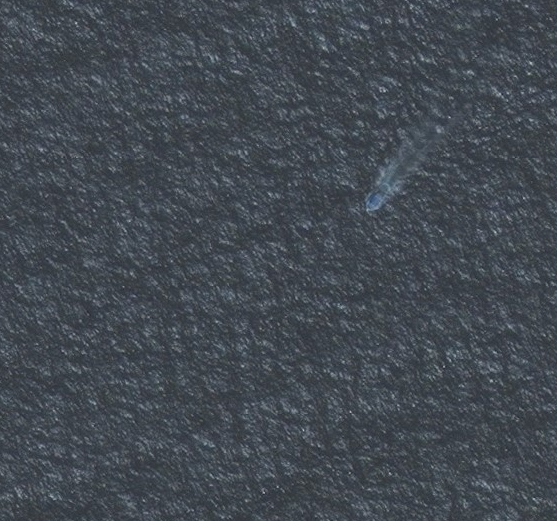ship: (360, 176, 401, 220)
